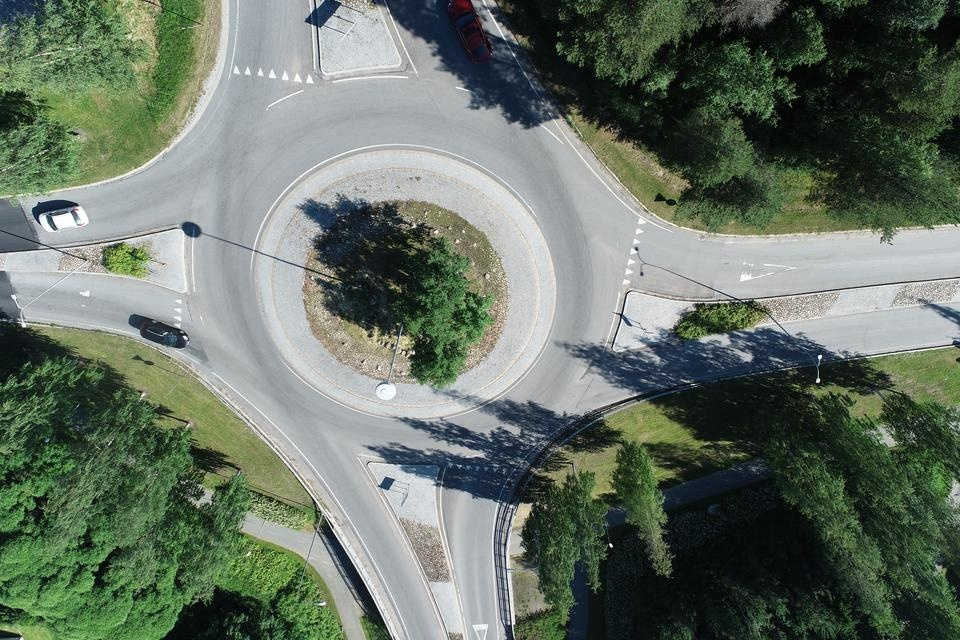roundabout: (108, 34, 656, 486)
